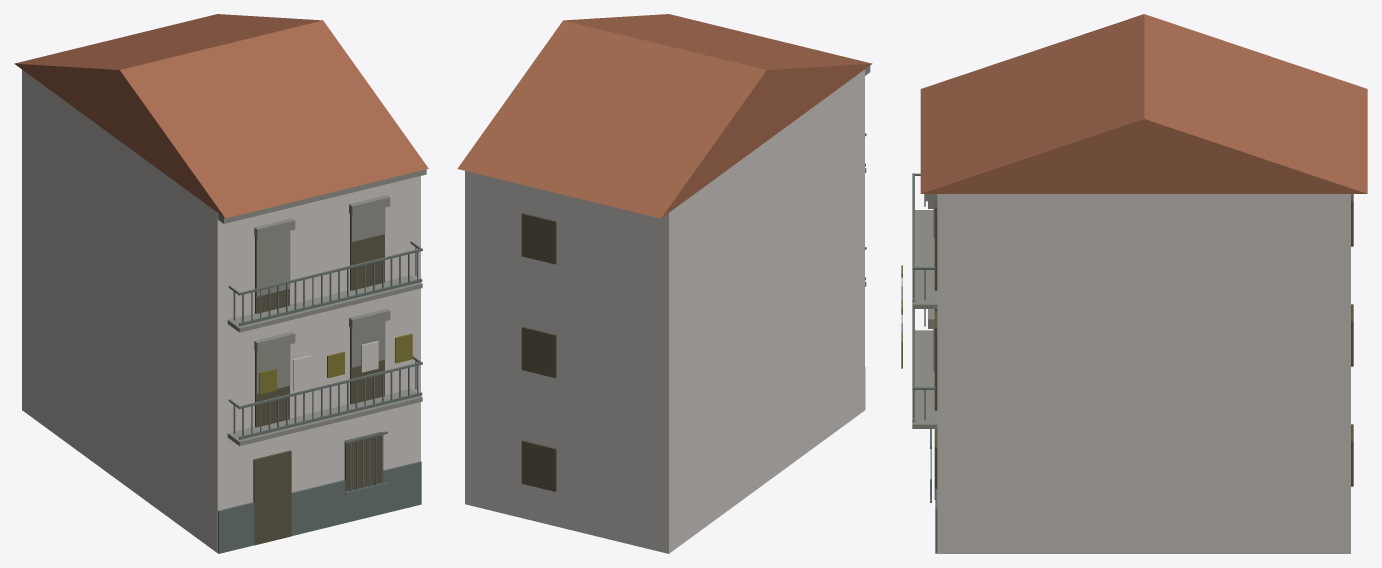
Rendered from SM_TresAlturas_v3_Ropa_LOD0.fbx.
3 renders of one model, left to right at view 1: azimuth 30°, elevation 25°; view 2: azimuth 150°, elevation 25°; view 3: azimuth 270°, elevation 25°, orthographic. The views are drawn at different scales.
Visible parts, largest first — view 1: SM_pueblo_valenciano_v13_LOD0; view 2: SM_pueblo_valenciano_v13_LOD0; view 3: SM_pueblo_valenciano_v13_LOD0.
Part boxes in pixels (box(x1,y1,x2,y2)): SM_pueblo_valenciano_v13_LOD0: box(14, 14, 428, 553); SM_pueblo_valenciano_v13_LOD0: box(457, 14, 872, 553); SM_pueblo_valenciano_v13_LOD0: box(901, 14, 1367, 553).
Size of the model in its own units: 6 by 11.6 by 11.27.
